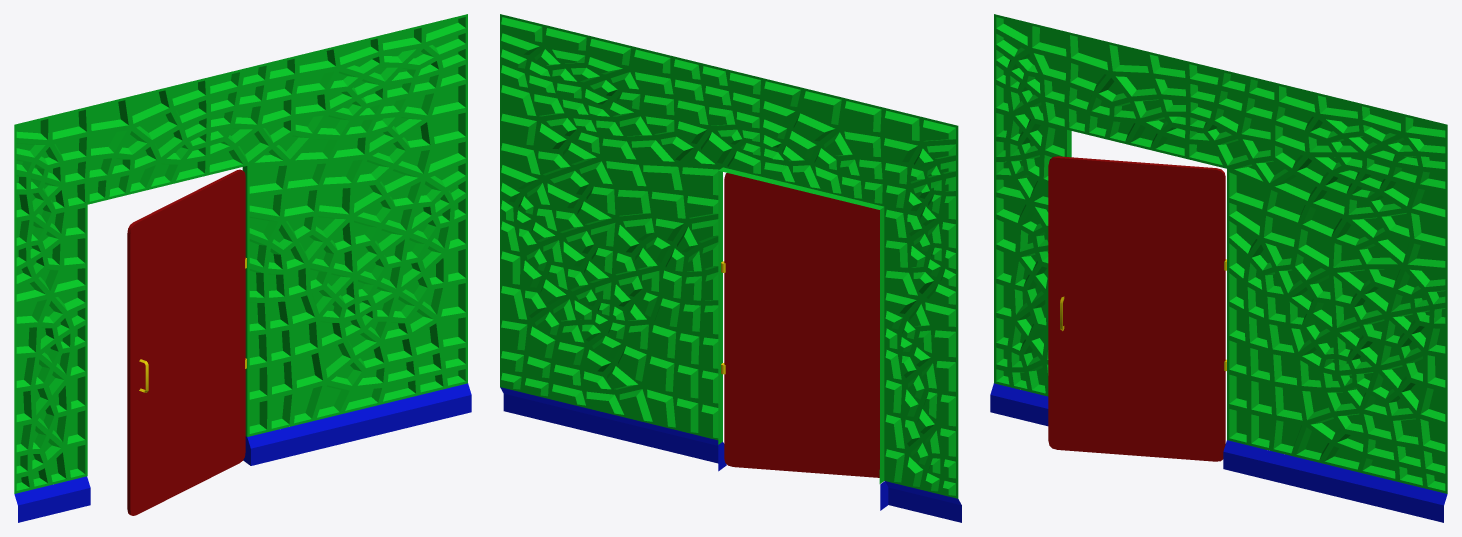
File: panel_wall.FBX
3 views of the same model, side by side, from view 1: azimuth 30°, elevation 25°; view 2: azimuth 150°, elevation 25°; view 3: azimuth 330°, elevation 25° (orthographic).
Parts seen in each view (by area): view 1: panel_wall; view 2: panel_wall; view 3: panel_wall.
Part boxes in pixels (bbox=[...]): panel_wall: bbox=[14, 14, 471, 522]; panel_wall: bbox=[500, 14, 961, 522]; panel_wall: bbox=[990, 14, 1447, 522].
Bounding box in the file's own units: 300 × 250 × 42.93.
